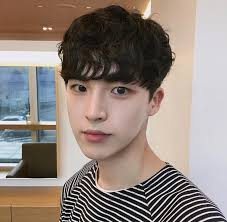people: (59, 6, 175, 222)
